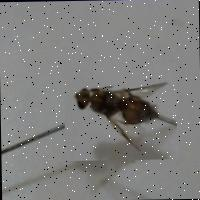Oriental-fruit-fly: (63, 62, 177, 160)
